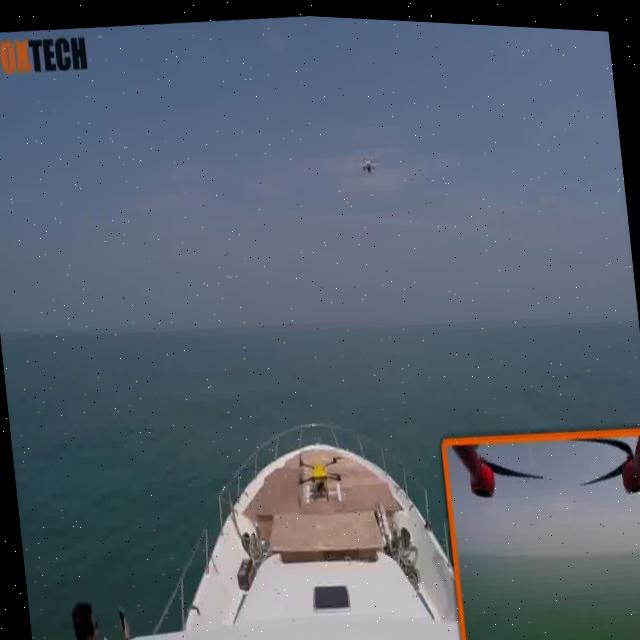drone: (332, 131, 400, 196)
